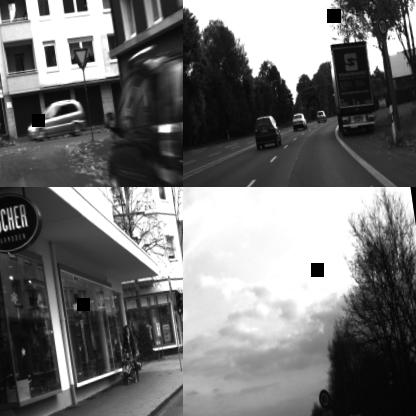give way: (72, 46, 91, 72)
speed limit 70: (376, 16, 388, 36)
speed limit 80: (316, 388, 332, 408)
